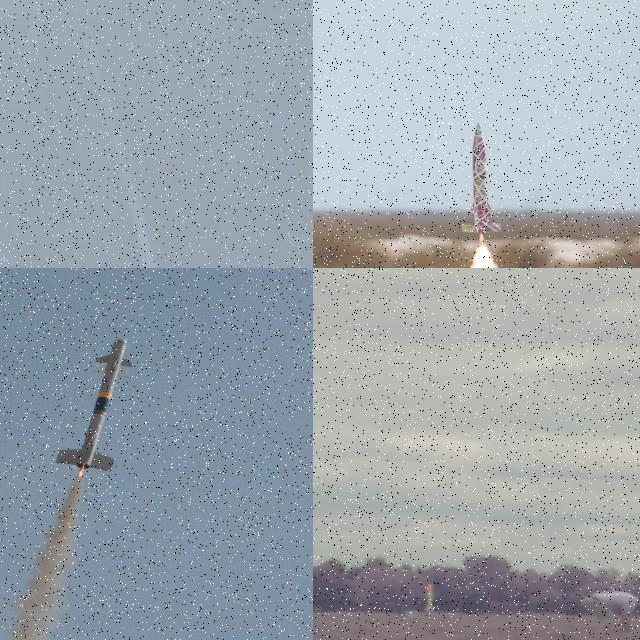Rocket: (54, 337, 132, 472), (461, 122, 502, 236), (424, 584, 435, 612), (82, 31, 84, 35)
